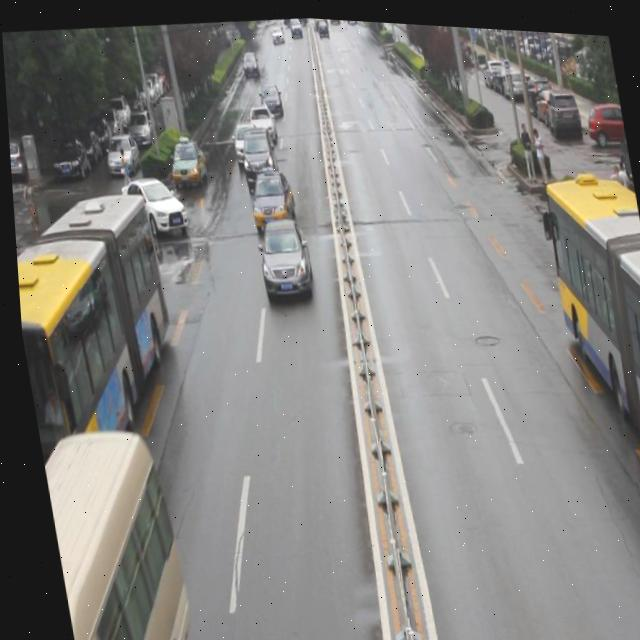car: (248, 214, 313, 303), (117, 173, 188, 239), (243, 163, 294, 232), (236, 123, 278, 192), (165, 134, 212, 192), (228, 116, 263, 169), (245, 99, 277, 147)
truck: (32, 423, 184, 640)
van: (9, 181, 191, 512), (534, 172, 640, 537)
